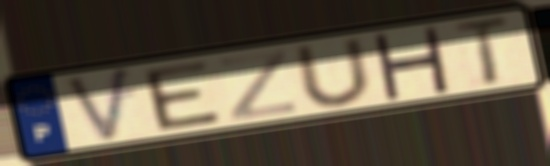E: (139, 58, 226, 133)
H: (368, 25, 452, 102)
T: (448, 13, 514, 89)
U: (290, 35, 378, 109)
V: (61, 64, 134, 146)
Z: (217, 47, 299, 123)
